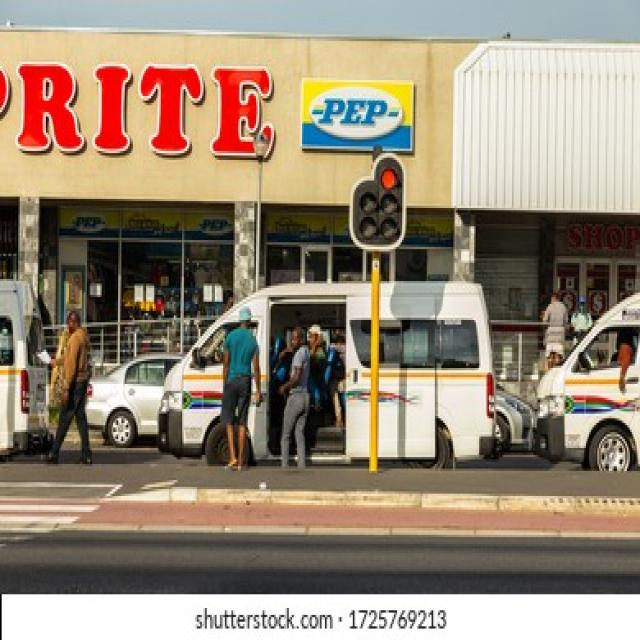MiniBus taxi: (162, 281, 506, 462), (531, 290, 640, 468)
Pedestrians: (46, 306, 102, 469), (222, 302, 262, 473)
